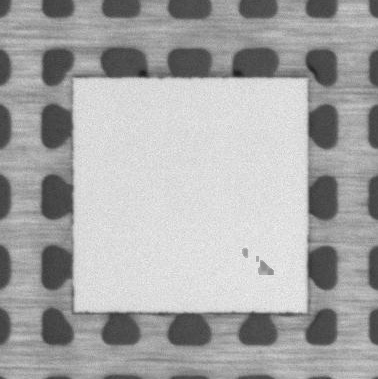DIE_INK: (253, 253, 273, 277), (237, 243, 252, 260)
